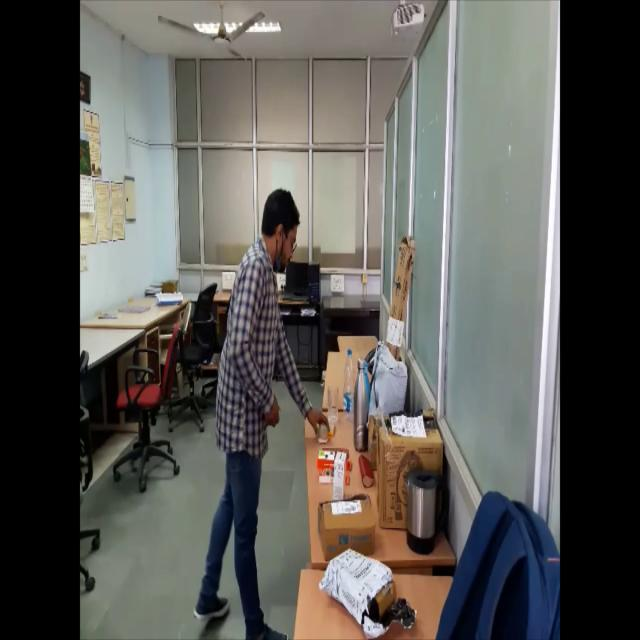normal: (203, 186, 336, 639)
